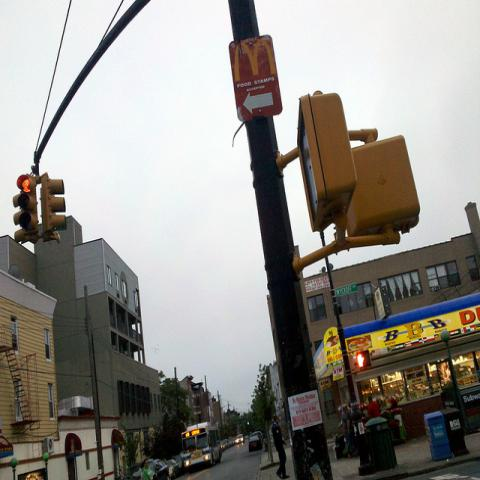bus: (181, 422, 222, 473)
car: (248, 436, 260, 452), (220, 440, 228, 450), (237, 434, 244, 444), (229, 438, 235, 447)
